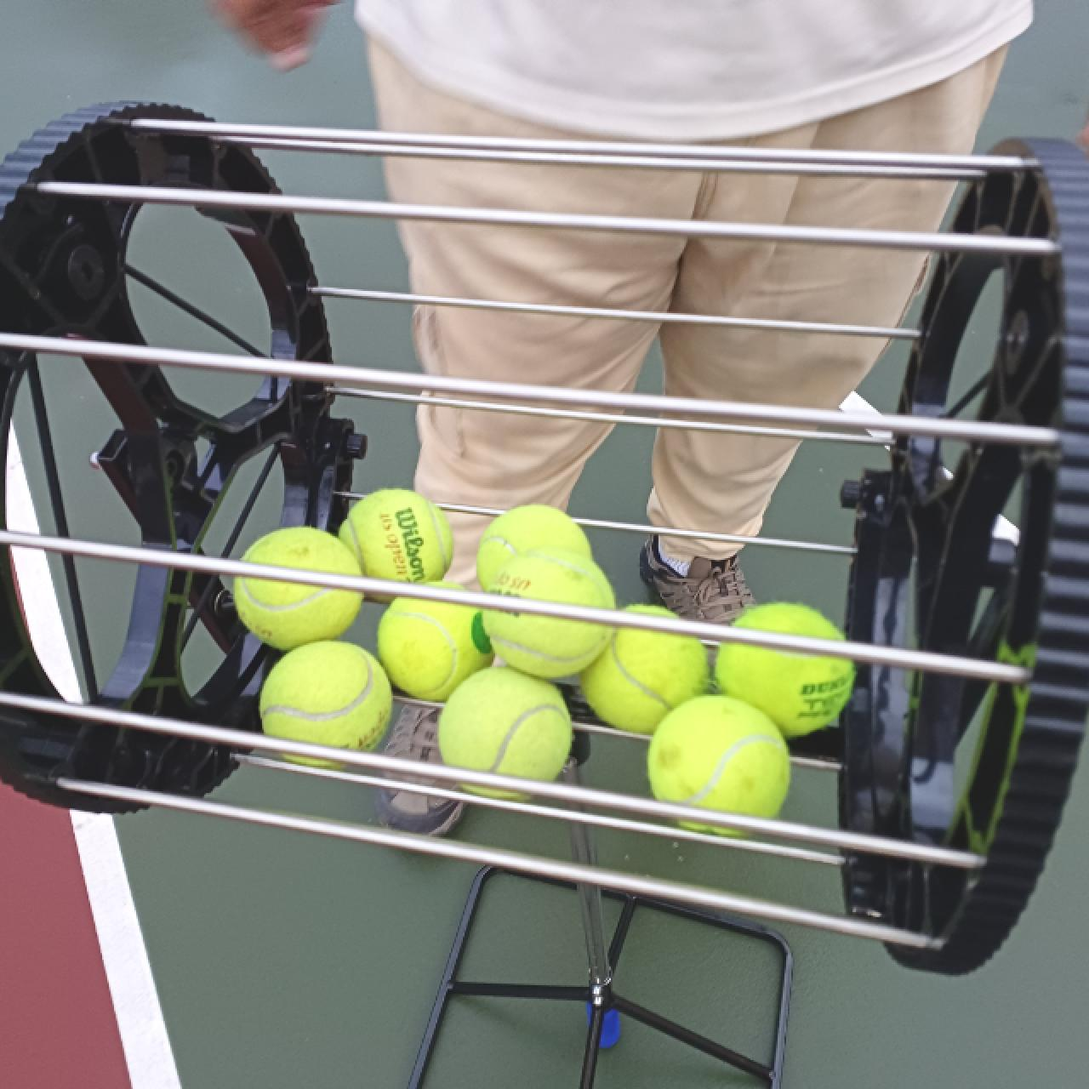tennis-ball: (646, 694, 794, 836), (715, 602, 857, 736), (482, 543, 617, 678), (437, 667, 573, 801), (258, 640, 393, 769), (578, 603, 710, 734), (231, 527, 364, 650), (376, 580, 497, 703), (338, 488, 455, 603), (476, 502, 595, 612)
